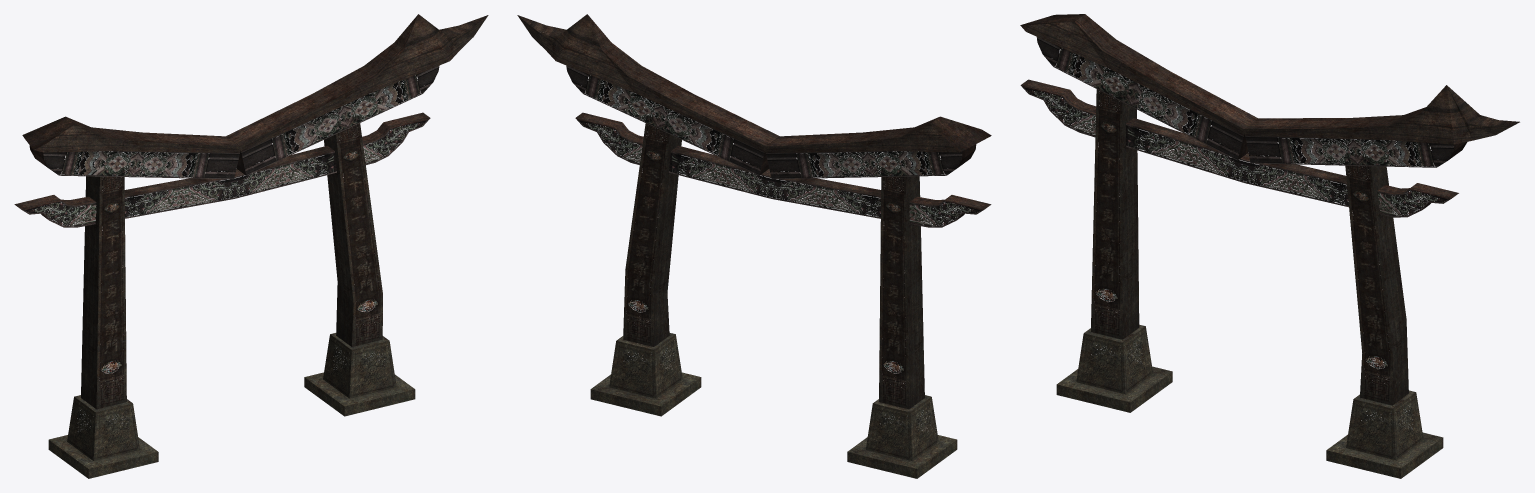
File: ep-035-woodgate.glb
The picture shows the model from 3 angles, left to right: view 1: azimuth 30°, elevation 25°; view 2: azimuth 150°, elevation 25°; view 3: azimuth 330°, elevation 25°; orthographic projection. The views are drawn at different scales.
Visible parts, largest first — view 1: m; view 2: m; view 3: m.
Boxes of the visible parts, x1,y1,x2,y2 form: m: (14, 14, 488, 478); m: (517, 14, 991, 478); m: (1020, 14, 1519, 478).
Size of the model in its own units: 18.43 by 13.65 by 2.72.
1 material, 1 textured.
